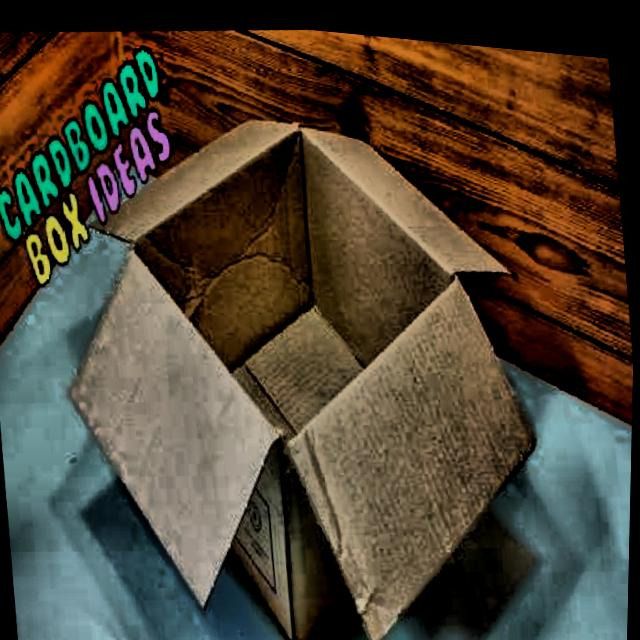Cardbox: (27, 58, 597, 640)
